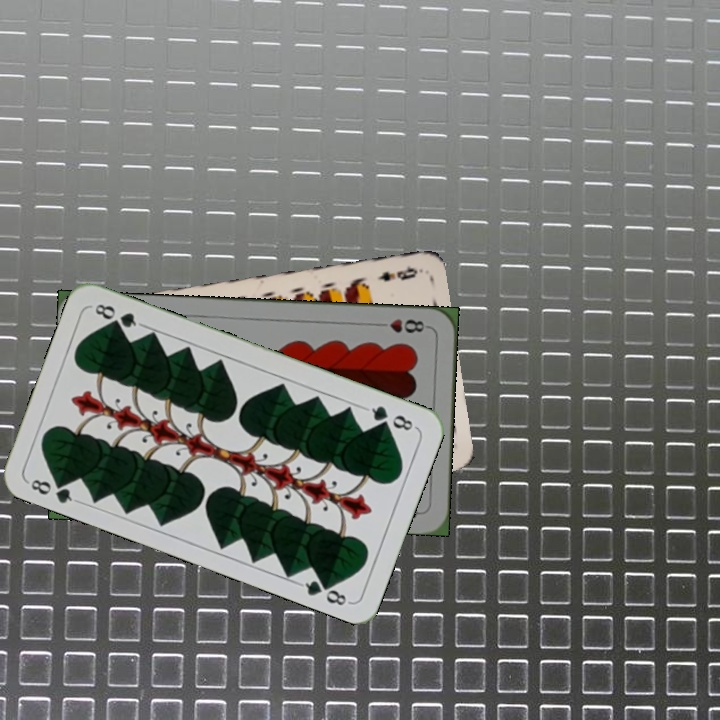E9: (373, 262, 420, 284)
G8: (362, 401, 419, 434), (24, 473, 81, 506)
H8: (372, 315, 431, 336)
